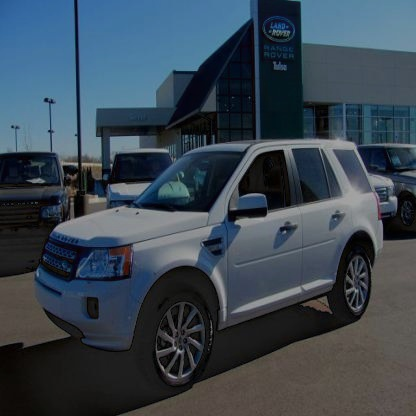Vehicle: (33, 138, 387, 395)
